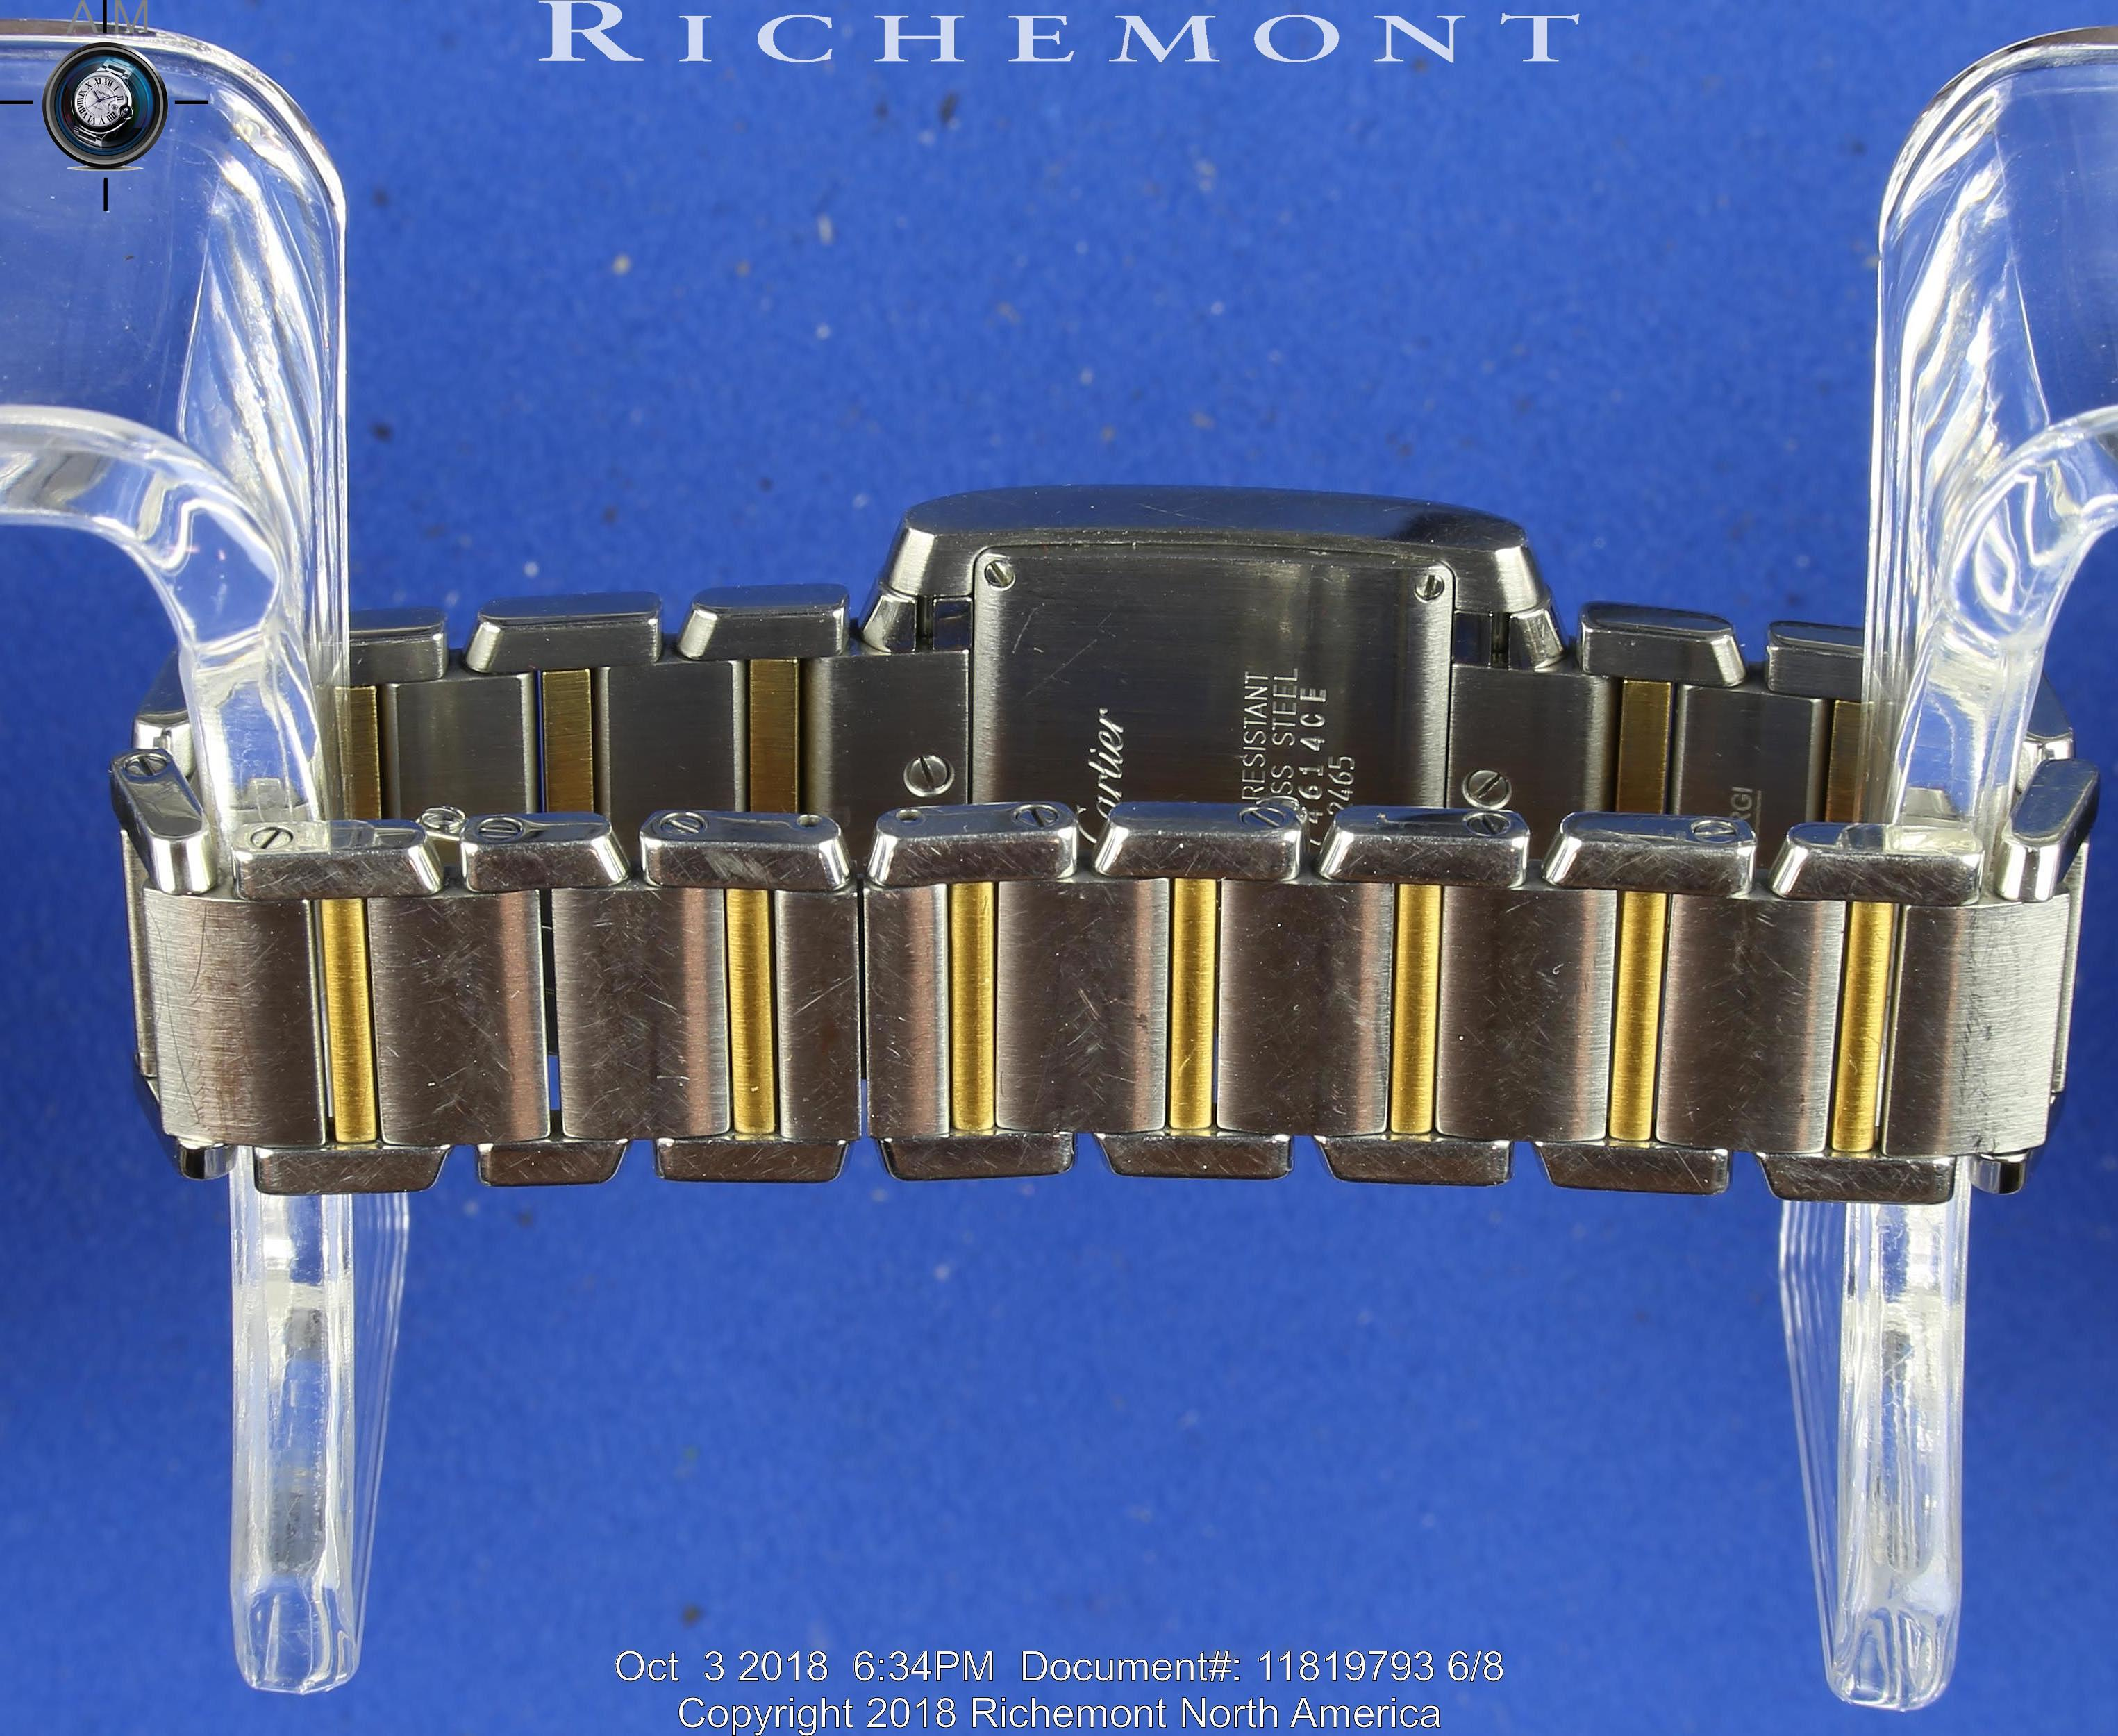watchback: (1008, 459, 1399, 848)
